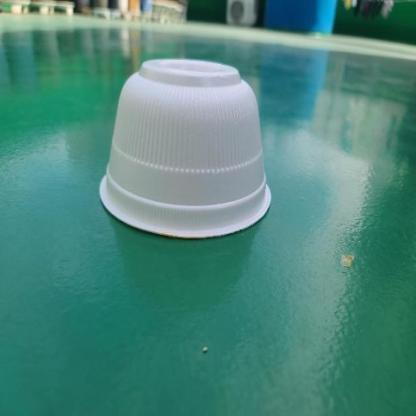Glass Cup: (98, 59, 272, 239), (100, 59, 271, 238)
